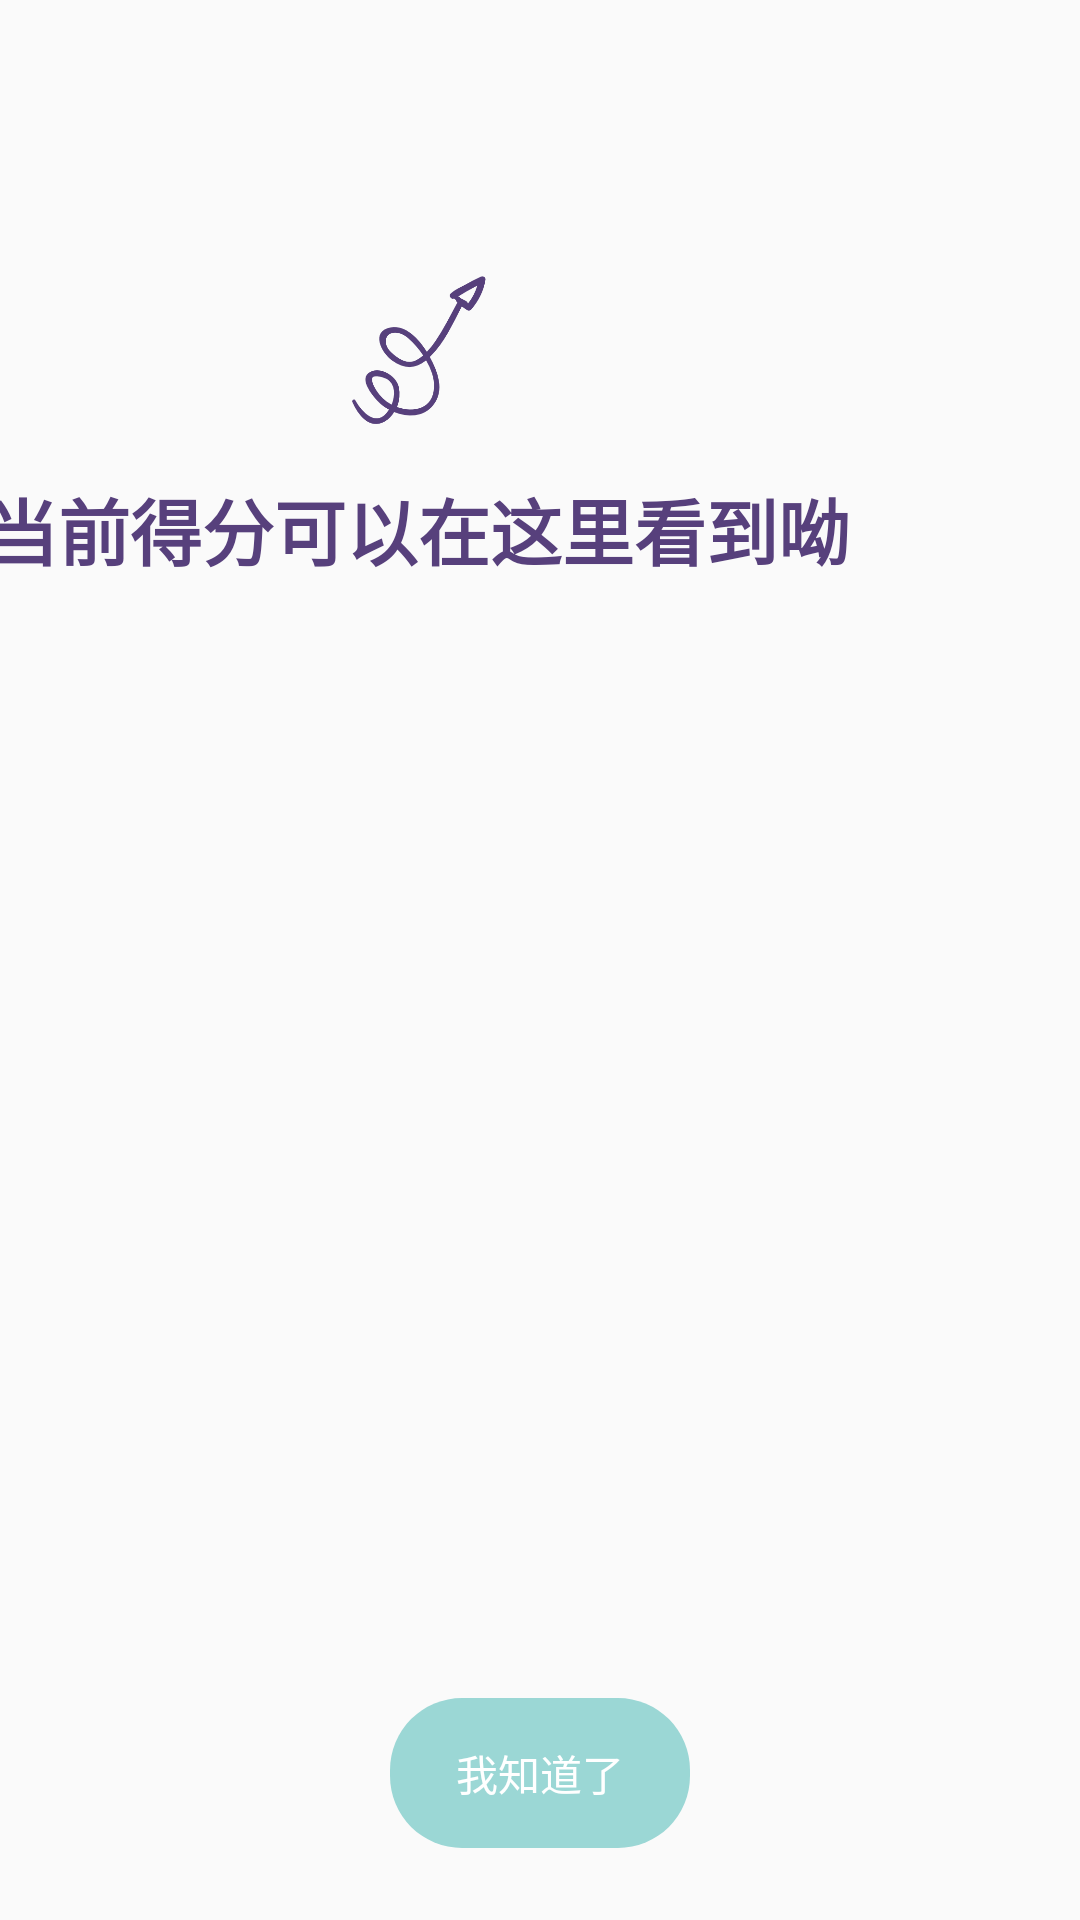

Icon click points for this 1080w x 1920h phone screenshot, format (x=x, y=y):
arrow: (x=419, y=350)
